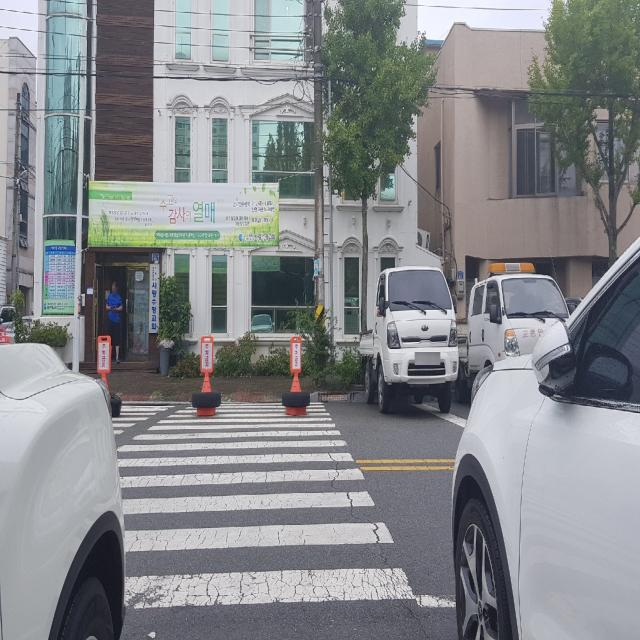횡단보도: (112, 400, 416, 610)
